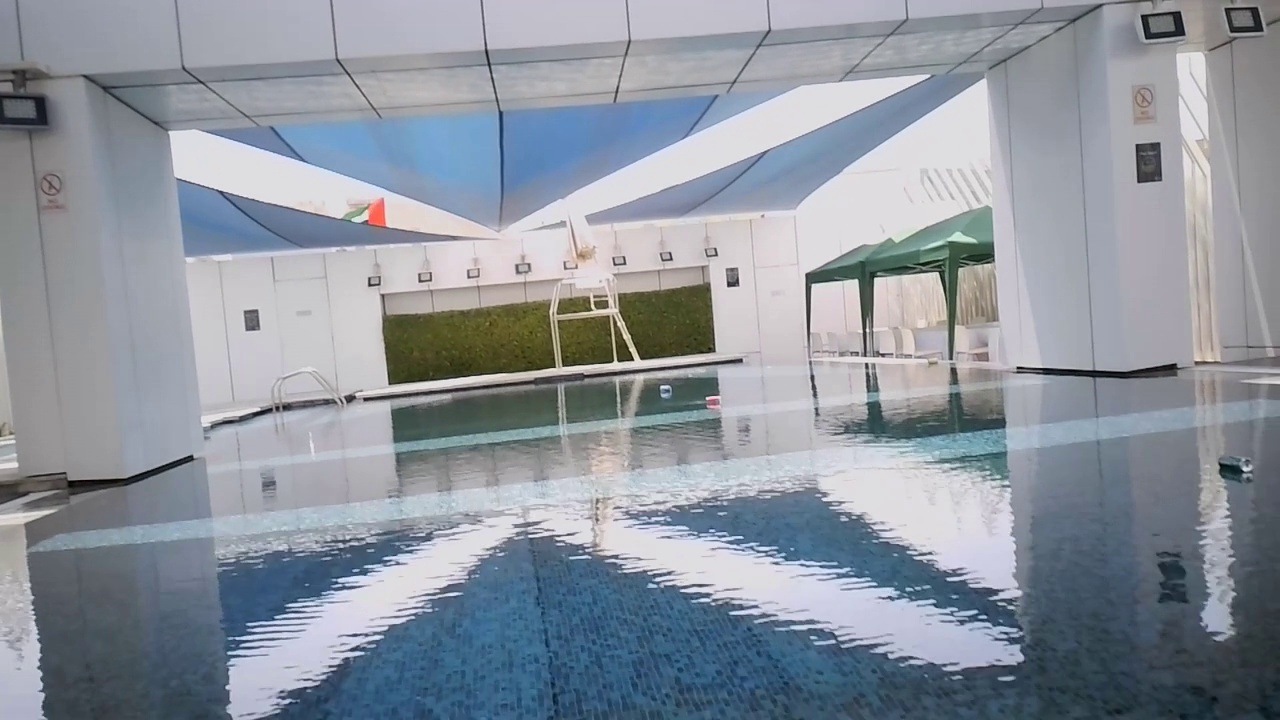debris: (1213, 448, 1255, 482), (699, 391, 724, 410), (654, 383, 677, 399), (923, 356, 942, 368)
